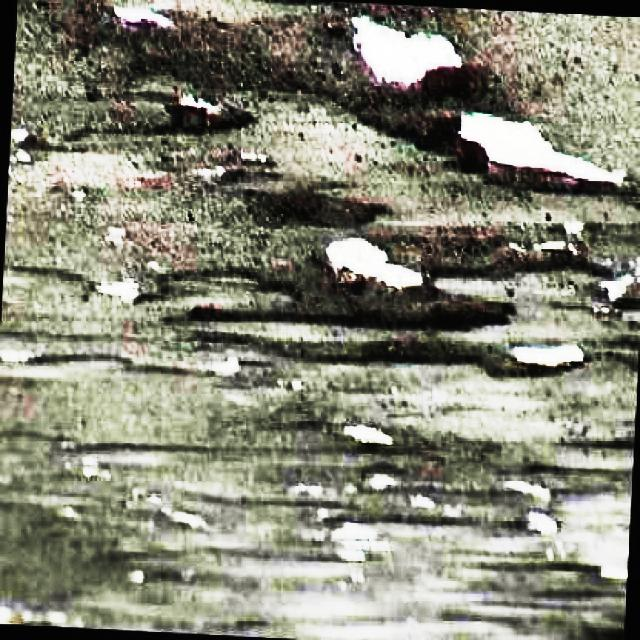pothole: (84, 0, 634, 202), (372, 222, 640, 322), (174, 260, 514, 335), (293, 334, 602, 374), (233, 182, 384, 228), (132, 94, 257, 135), (511, 471, 560, 546), (345, 423, 400, 462), (100, 274, 137, 311)
